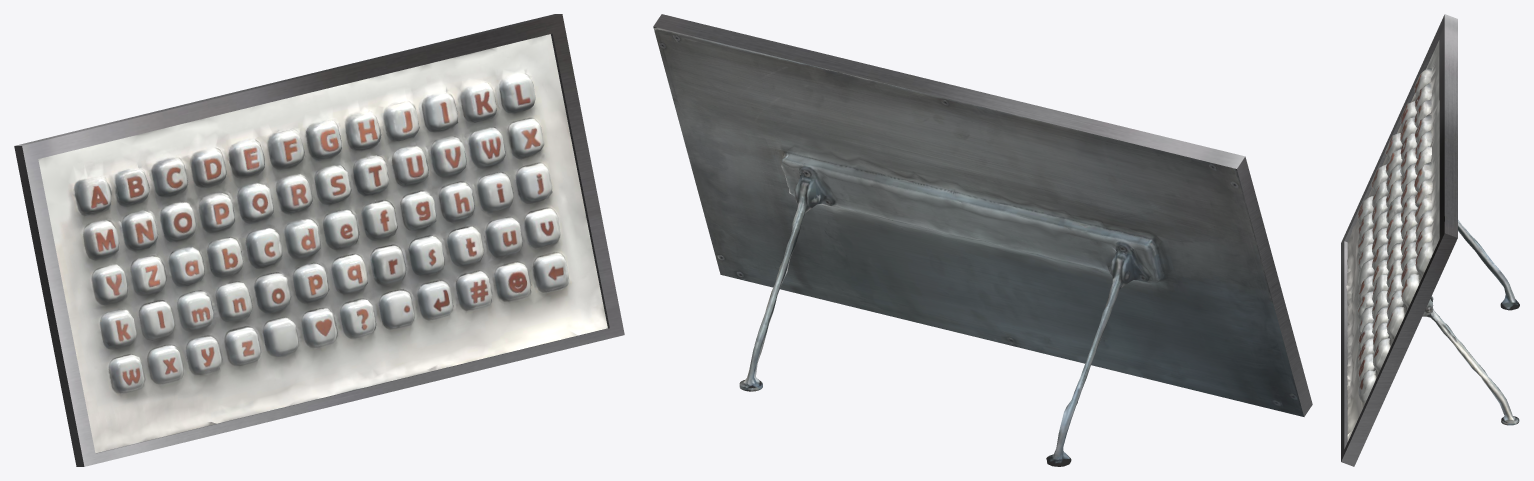
3 views of the same model, side by side, from view 1: azimuth 30°, elevation 25°; view 2: azimuth 150°, elevation 25°; view 3: azimuth 270°, elevation 25° (orthographic). The views are drawn at different scales.
Parts seen in each view (by area): view 1: PK-04-01; view 2: PK-04-01; view 3: PK-04-01.
Boxes of the visible parts, x1=… form: PK-04-01: x1=14, y1=14, x2=624, y2=466; PK-04-01: x1=653, y1=14, x2=1312, y2=466; PK-04-01: x1=1341, y1=14, x2=1519, y2=466.
Size of the model in its own units: 0.9867 by 0.4997 by 0.34.
Materials: 2 (2 with a texture image).
